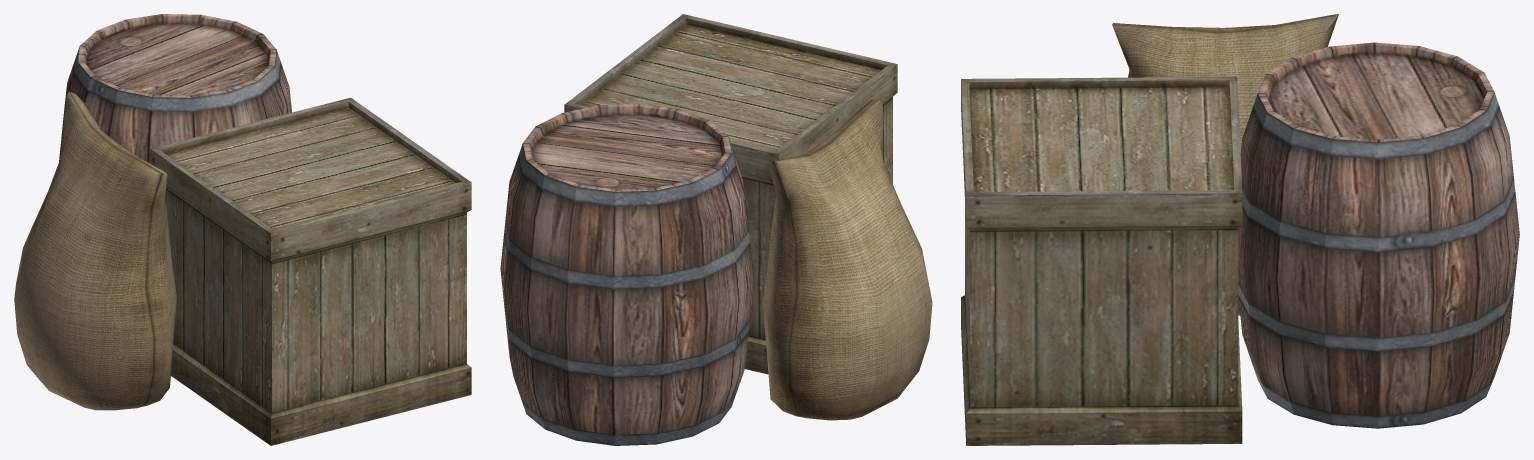
File: barrel.fbx
The picture shows the model from 3 angles, left to right: view 1: azimuth 30°, elevation 25°; view 2: azimuth 150°, elevation 25°; view 3: azimuth 270°, elevation 25°; orthographic projection. The views are drawn at different scales.
Visible parts, largest first — view 1: polySurface1; view 2: polySurface1; view 3: polySurface1.
Boxes of the visible parts, x1,y1,x2,y2 form: polySurface1: [14, 14, 471, 445]; polySurface1: [500, 14, 932, 445]; polySurface1: [961, 14, 1519, 445].
Bounding box in the file's own units: 31.4 × 22.85 × 39.3.
3 materials, 3 textured.
